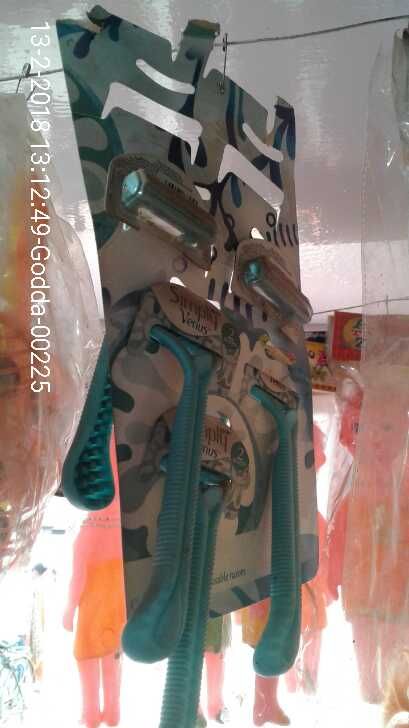venus: (118, 281, 219, 669), (249, 372, 326, 687)
